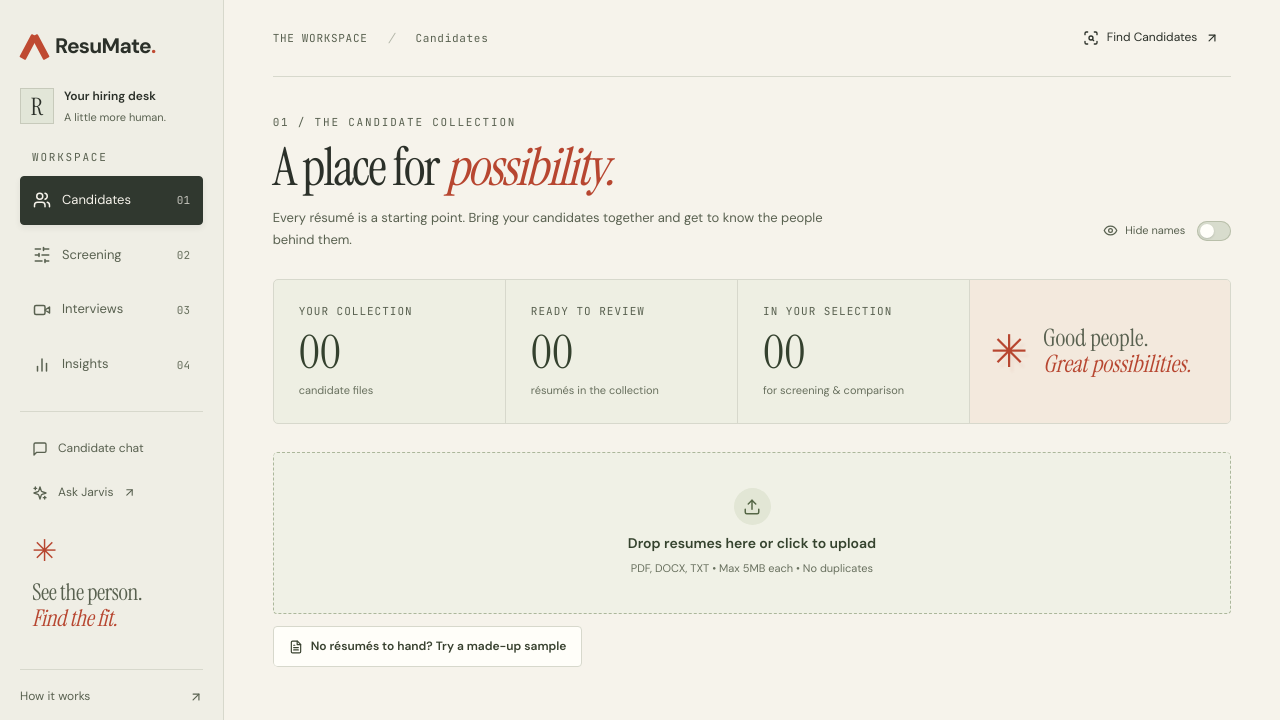
Scenario: the dashboard in the workspace frame › opens the candidate chat from the sidebar, and marks it
This screenshot has width=1280, height=720.
What coordinates should you click on to do the following:
click the button "Candidate chat"
I would click on:
 (112, 449)
Its box is [20, 430, 203, 467].
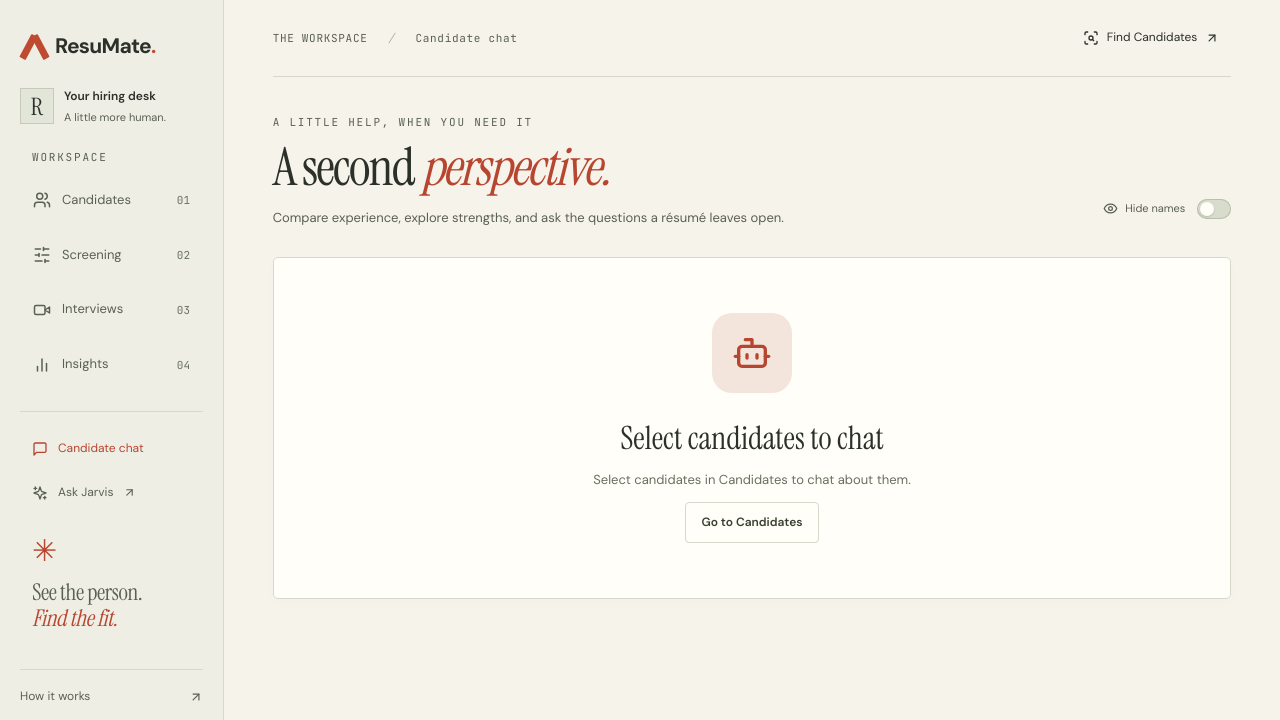
expect the heading "A second perspective." is shown: met, box [273, 132, 609, 200]
